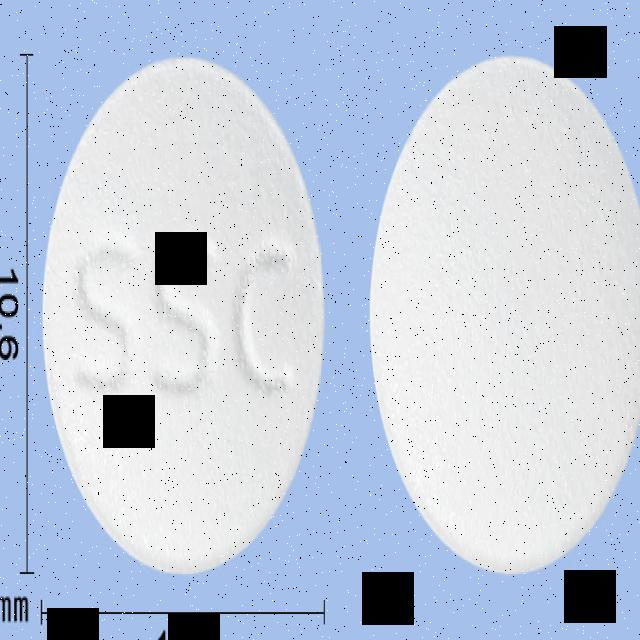Ciprofloxacin Tab- Samsung: (39, 50, 332, 579)
